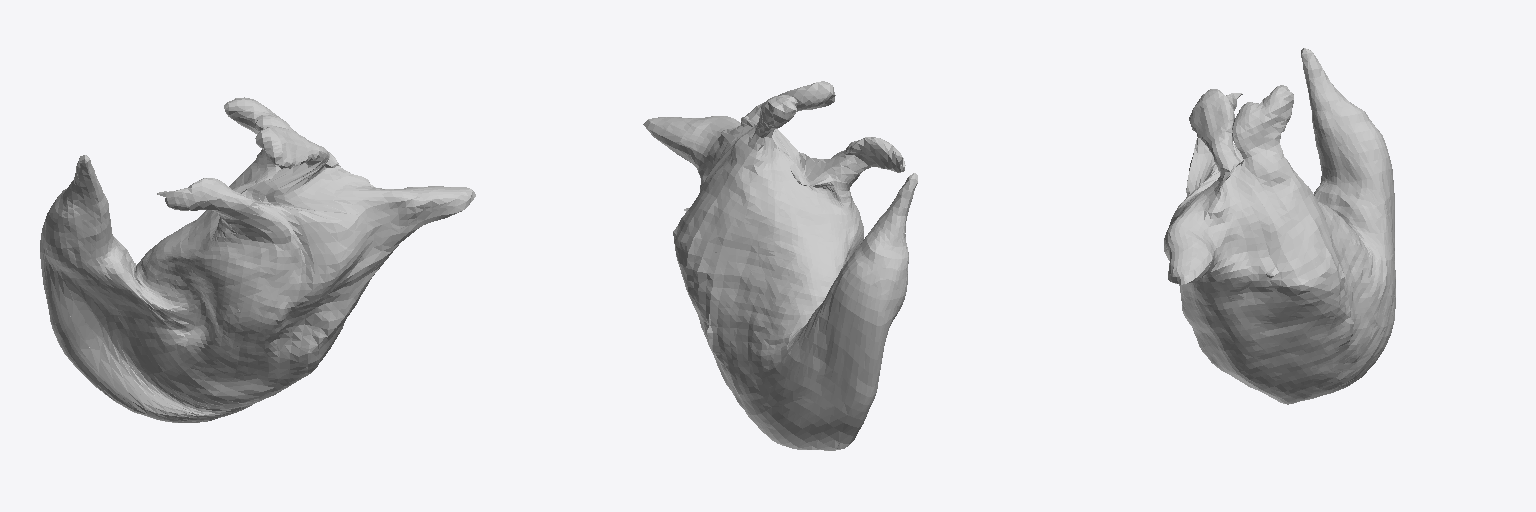
The model's file is fg-00030-geo-color.obj.
The picture shows the model from 3 angles: view 1: azimuth 30°, elevation 25°; view 2: azimuth 150°, elevation 25°; view 3: azimuth 270°, elevation 25°; orthographic projection.
Size of the model in its own units: 0.2647 by 0.2362 by 0.1554.